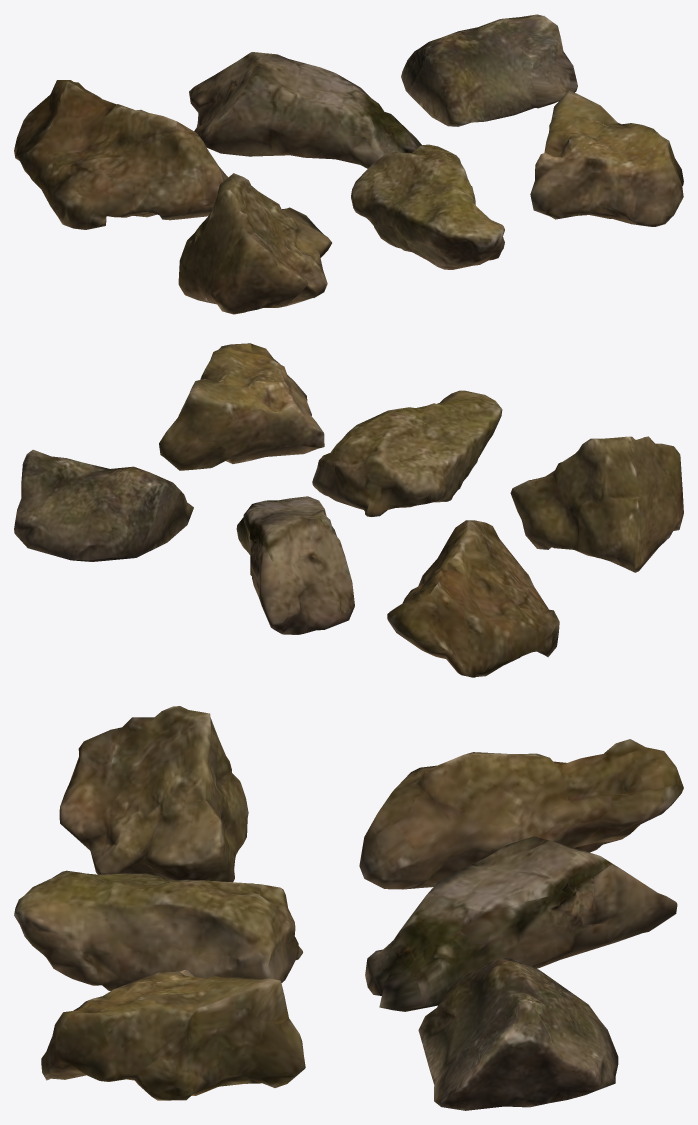
The model's file is rock_moss.glb.
3 renders of one model, top to bottom at view 1: azimuth 30°, elevation 25°; view 2: azimuth 150°, elevation 25°; view 3: azimuth 270°, elevation 25°, orthographic. The views are drawn at different scales.
Visible parts, largest first — view 1: rock_moss_set_01_rock01, rock_moss_set_01_rock02, rock_moss_set_01_rock06, rock_moss_set_01_rock04, rock_moss_set_01_rock03, rock_moss_set_01_rock05; view 2: rock_moss_set_01_rock04, rock_moss_set_01_rock01, rock_moss_set_01_rock05, rock_moss_set_01_rock03, rock_moss_set_01_rock06, rock_moss_set_01_rock02; view 3: rock_moss_set_01_rock01, rock_moss_set_01_rock02, rock_moss_set_01_rock05, rock_moss_set_01_rock04, rock_moss_set_01_rock06, rock_moss_set_01_rock03.
Part boxes in pixels (x1,y1,x2,y2): rock_moss_set_01_rock01: (14,80,227,229); rock_moss_set_01_rock02: (189,52,421,168); rock_moss_set_01_rock06: (530,90,683,226); rock_moss_set_01_rock04: (178,173,331,314); rock_moss_set_01_rock03: (401,14,577,126); rock_moss_set_01_rock05: (351,144,504,269); rock_moss_set_01_rock04: (510,436,683,572); rock_moss_set_01_rock01: (387,520,559,677); rock_moss_set_01_rock05: (312,390,502,516); rock_moss_set_01_rock03: (14,449,193,561); rock_moss_set_01_rock06: (159,343,324,470); rock_moss_set_01_rock02: (236,496,354,634); rock_moss_set_01_rock01: (359,739,683,889); rock_moss_set_01_rock02: (365,836,677,1011); rock_moss_set_01_rock05: (14,870,302,990); rock_moss_set_01_rock04: (59,706,248,882); rock_moss_set_01_rock06: (41,969,305,1100); rock_moss_set_01_rock03: (418,958,618,1110).
Bounding box in the file's own units: 8 × 1.76 × 6.94.
1 material, 1 textured.
